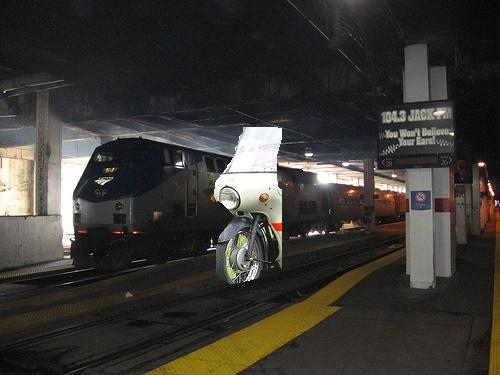tampered: (212, 128, 282, 293)
